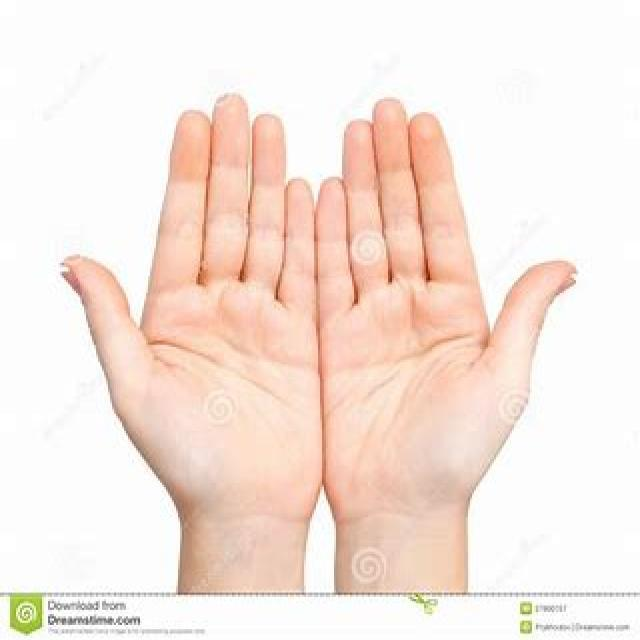not-gloved: (332, 71, 582, 530), (62, 90, 323, 508)
